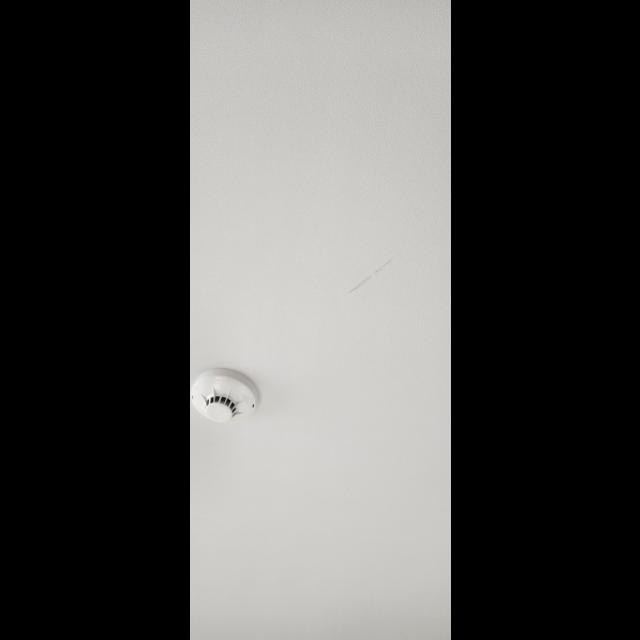Smoke-Detector: (190, 370, 260, 426)
